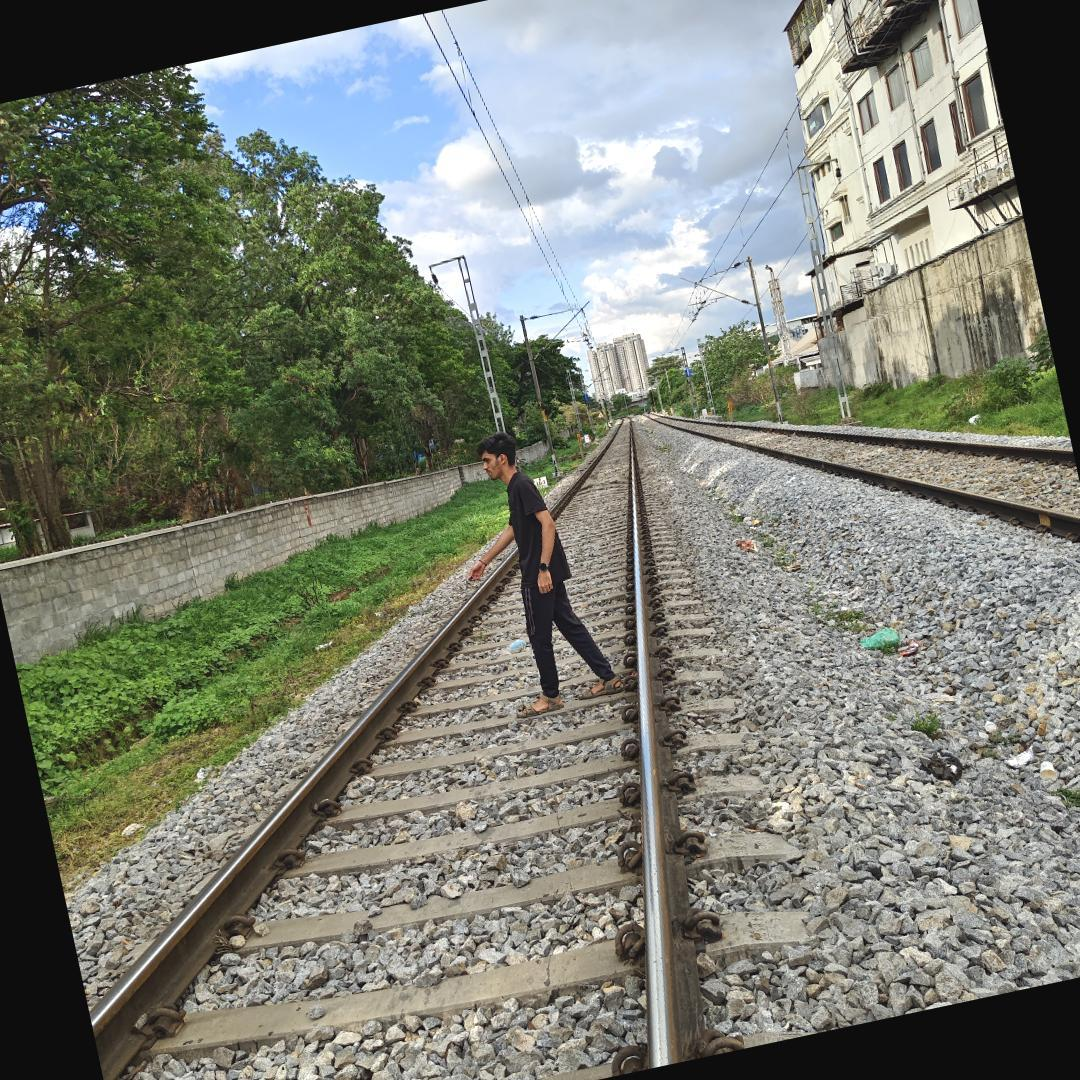standing: (467, 422, 644, 732)
